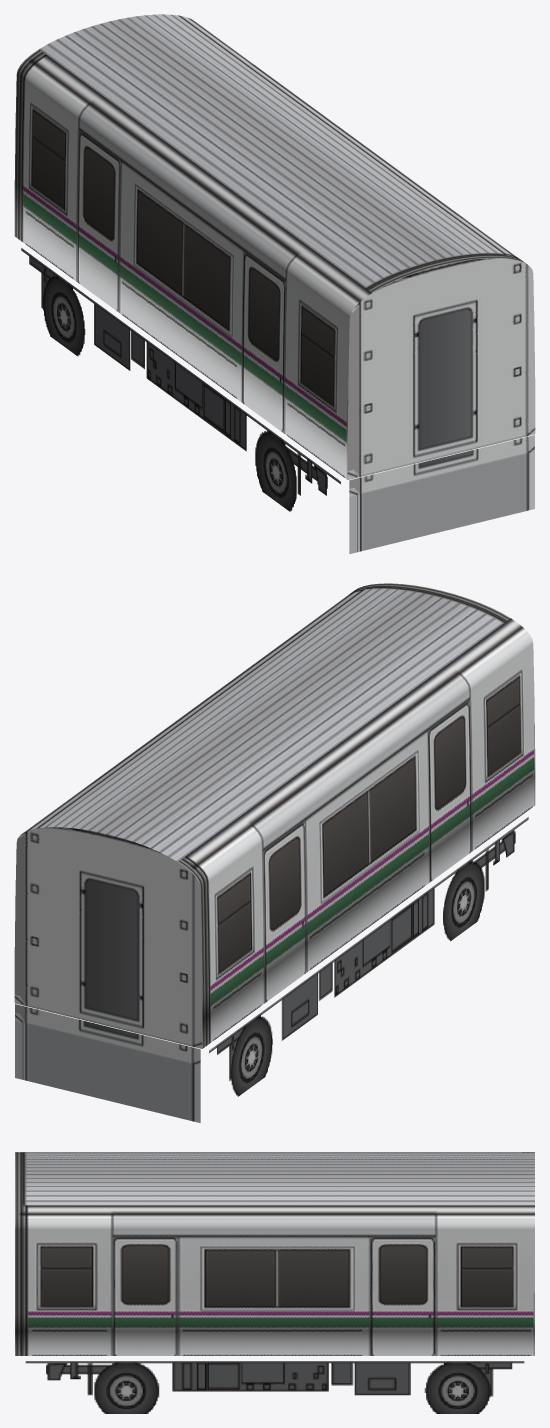
The model's file is car2.glb.
The picture shows the model from 3 angles, top to bottom: view 1: azimuth 30°, elevation 25°; view 2: azimuth 150°, elevation 25°; view 3: azimuth 270°, elevation 25°; orthographic projection. The views are drawn at different scales.
Parts seen in each view (by area): view 1: nipporitoneri-300; view 2: nipporitoneri-300; view 3: nipporitoneri-300.
Boxes of the visible parts, <box> form: nipporitoneri-300: <box>14,14,535,553</box>; nipporitoneri-300: <box>14,583,535,1122</box>; nipporitoneri-300: <box>15,1152,534,1413</box>.
Bounding box in the file's own units: 2.47 × 3.34 × 7.62.
Materials: 8 (7 with a texture image).
